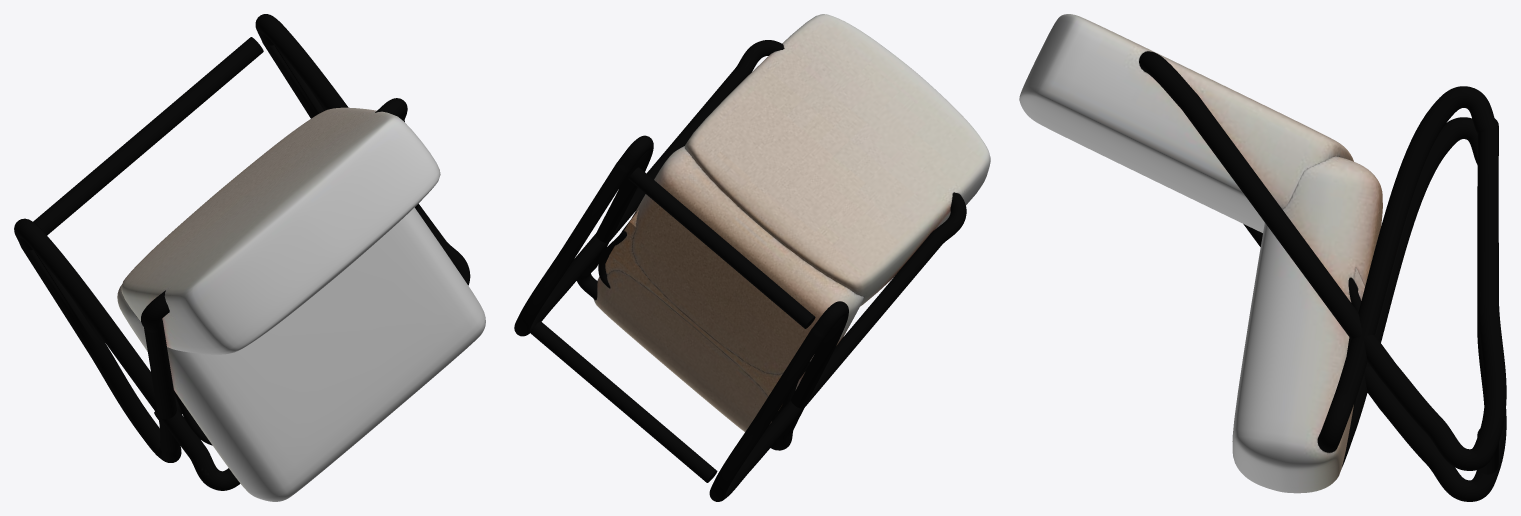
Rendered from B1_chair_final.obj.
3 views of the same model, side by side, from view 1: azimuth 30°, elevation 25°; view 2: azimuth 150°, elevation 25°; view 3: azimuth 270°, elevation 25° (orthographic). The views are drawn at different scales.
Visible parts, largest first — view 1: B1_chair_final.001; view 2: B1_chair_final.001; view 3: B1_chair_final.001.
Part boxes in pixels (x1=…): B1_chair_final.001: x1=14, y1=14, x2=485, y2=501; B1_chair_final.001: x1=514, y1=14, x2=990, y2=501; B1_chair_final.001: x1=1019, y1=14, x2=1506, y2=501.
Bounding box in the file's own units: 0.9179 × 0.9761 × 0.848.
Materials: 1 (1 with a texture image).
